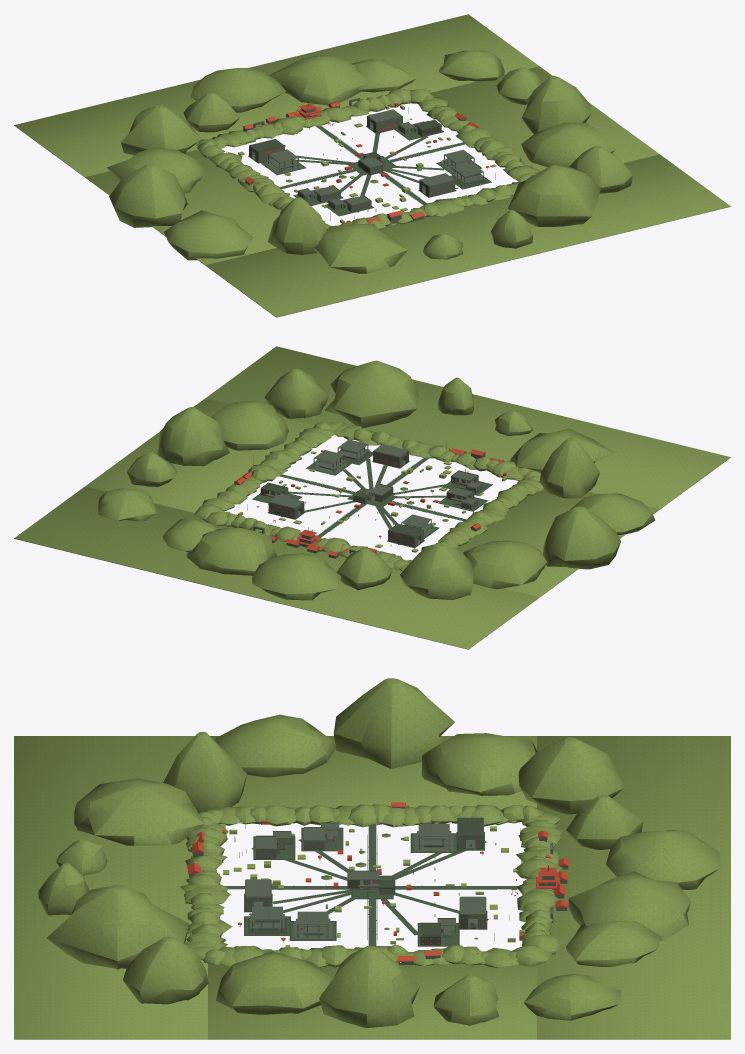
The model's file is chikurin-lod1.glb.
3 renders of one model, top to bottom at view 1: azimuth 30°, elevation 25°; view 2: azimuth 150°, elevation 25°; view 3: azimuth 270°, elevation 25°, orthographic. The views are drawn at different scales.
Parts seen in each view (by area): view 1: HB_chikurin_LOD1_terrain, HB_chikurin_LOD1_wall, HB_chikurin_LOD1_road, HB_chikurin_LOD1_wall_alt, HB_chikurin_LOD1_accent, HB_chikurin_LOD1_obstacle; view 2: HB_chikurin_LOD1_terrain, HB_chikurin_LOD1_wall, HB_chikurin_LOD1_road, HB_chikurin_LOD1_wall_alt, HB_chikurin_LOD1_accent, HB_chikurin_LOD1_obstacle; view 3: HB_chikurin_LOD1_terrain, HB_chikurin_LOD1_wall, HB_chikurin_LOD1_road, HB_chikurin_LOD1_wall_alt, HB_chikurin_LOD1_accent, HB_chikurin_LOD1_obstacle.
Boxes of the visible parts, left/top/right/bottom form: HB_chikurin_LOD1_terrain: left=14, top=14, right=730, bottom=317; HB_chikurin_LOD1_wall: left=243, top=97, right=485, bottom=224; HB_chikurin_LOD1_road: left=248, top=126, right=491, bottom=215; HB_chikurin_LOD1_wall_alt: left=248, top=106, right=491, bottom=223; HB_chikurin_LOD1_accent: left=242, top=102, right=489, bottom=223; HB_chikurin_LOD1_obstacle: left=223, top=105, right=496, bottom=223; HB_chikurin_LOD1_terrain: left=14, top=346, right=730, bottom=649; HB_chikurin_LOD1_wall: left=234, top=439, right=485, bottom=558; HB_chikurin_LOD1_road: left=253, top=451, right=492, bottom=547; HB_chikurin_LOD1_wall_alt: left=252, top=447, right=492, bottom=558; HB_chikurin_LOD1_accent: left=224, top=448, right=507, bottom=556; HB_chikurin_LOD1_obstacle: left=238, top=451, right=522, bottom=552; HB_chikurin_LOD1_terrain: left=14, top=678, right=730, bottom=1039; HB_chikurin_LOD1_wall: left=189, top=806, right=567, bottom=964; HB_chikurin_LOD1_road: left=224, top=824, right=517, bottom=946; HB_chikurin_LOD1_wall_alt: left=188, top=817, right=568, bottom=964; HB_chikurin_LOD1_accent: left=187, top=802, right=568, bottom=961; HB_chikurin_LOD1_obstacle: left=218, top=820, right=525, bottom=947.
Size of the model in its own units: 659 by 63.8 by 628.
Materials: 10 (8 with a texture image).
